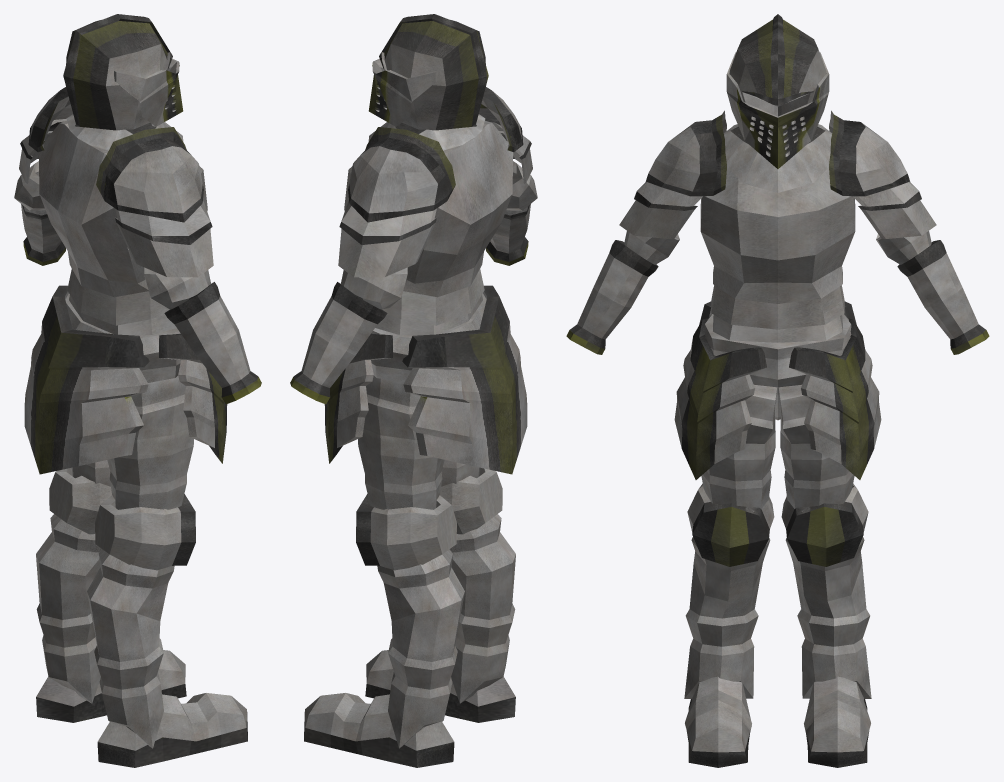
File: armor_texture_test.fbx
3 renders of one model, left to right at view 1: azimuth 30°, elevation 25°; view 2: azimuth 150°, elevation 25°; view 3: azimuth 270°, elevation 25°, orthographic. The views are drawn at different scales.
Visible parts, largest first — view 1: Cube.010, Cube.013, Shoulder Pads, Cube.001, Cube.011, Helmet, Cube.009, Cube.012, Gauntlet, ElbowPad, Helmet Mast, Cube.014 (+1 smaller); view 2: Cube.010, Cube.013, Shoulder Pads, Cube.001, Cube.011, Helmet, Cube.009, Cube.012, Gauntlet, ElbowPad, Helmet Mast, Cube.014 (+1 smaller); view 3: Cube.001, Cube.013, Cube.010, Shoulder Pads, Cube.009, Cube.011, Cube.012, Gauntlet, Helmet, Helmet Mast, NeckGaurd, Cube.014 (+1 smaller).
Part boxes in pixels (x1,y1,x2,y2): Cube.010: (36,514,174,748); Cube.013: (24,285,227,474); Shoulder Pads: (19,87,213,277); Cube.001: (38,120,207,335); Cube.011: (36,650,247,767); Helmet: (63,14,172,130); Cube.009: (71,375,193,509); Cube.012: (49,467,195,570); Gauntlet: (21,204,261,404); ElbowPad: (14,161,210,308); Helmet Mast: (114,59,183,126); Cube.014: (65,293,180,382); Cube.010: (377,514,515,748); Cube.013: (324,285,527,474); Shoulder Pads: (338,87,532,277); Cube.001: (344,120,513,335); Cube.011: (304,650,515,767); Helmet: (379,14,488,130); Cube.009: (358,375,480,509); Cube.012: (356,467,502,570); Gauntlet: (290,204,530,404); ElbowPad: (341,161,537,308); Helmet Mast: (368,59,437,126); Cube.014: (371,293,486,382); Cube.001: (700,167,855,342); Cube.013: (674,301,881,479); Cube.010: (684,537,871,698); Shoulder Pads: (619,110,936,238); Cube.009: (701,384,854,508); Cube.011: (685,676,870,767); Cube.012: (687,483,868,566); Gauntlet: (566,240,989,354); Helmet: (729,14,826,140); Helmet Mast: (726,52,829,168); NeckGaurd: (723,124,832,192); Cube.014: (704,314,851,387).
Size of the model in its own units: 72.21 by 278 by 154.
